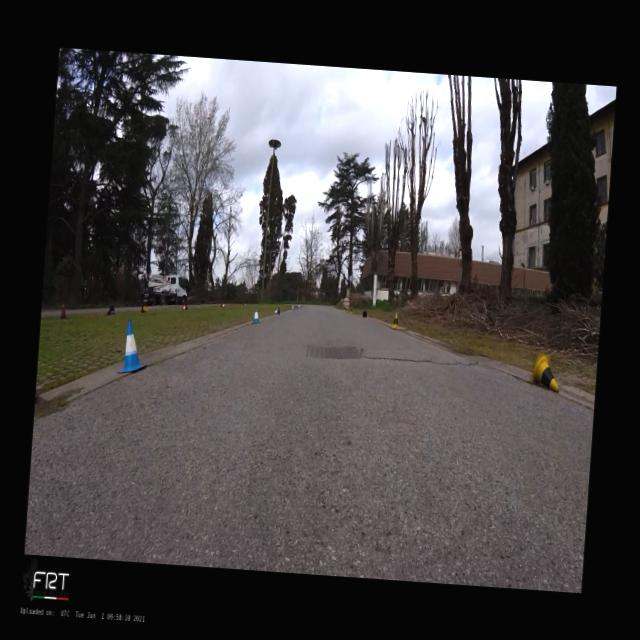blue_cone: (116, 319, 149, 375), (250, 306, 262, 324), (272, 306, 280, 314), (291, 304, 294, 310)
orange_cone: (182, 304, 188, 310), (220, 302, 226, 307), (242, 302, 245, 305)
unknown_cone: (59, 302, 68, 318), (106, 305, 115, 315), (141, 304, 148, 312), (362, 310, 366, 318)
yellow_cone: (529, 352, 561, 392), (390, 312, 399, 329), (350, 306, 352, 313)
